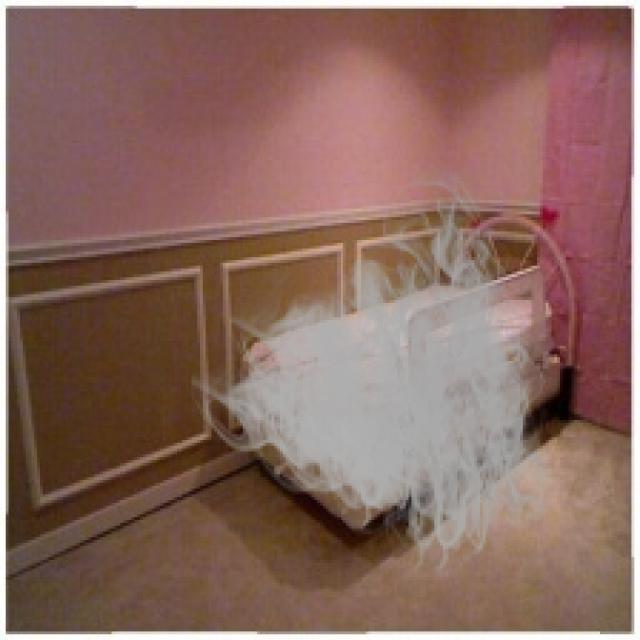Smoke: (192, 162, 572, 588)
